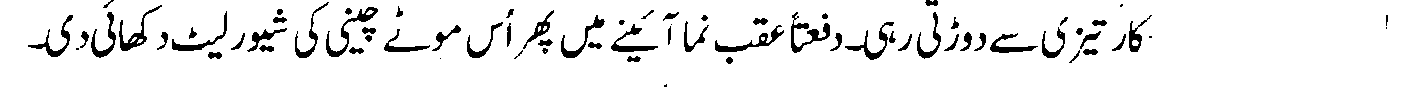bay_shosha: (711, 37, 753, 67)
